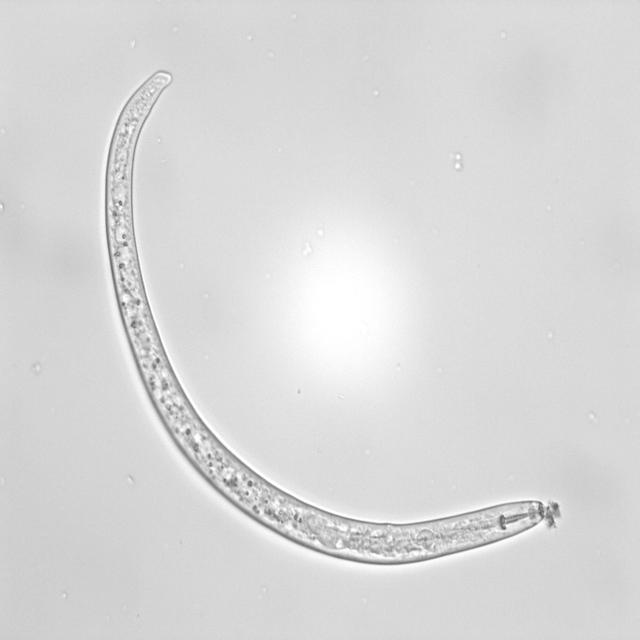Helicotylenchus: (100, 61, 553, 572)
